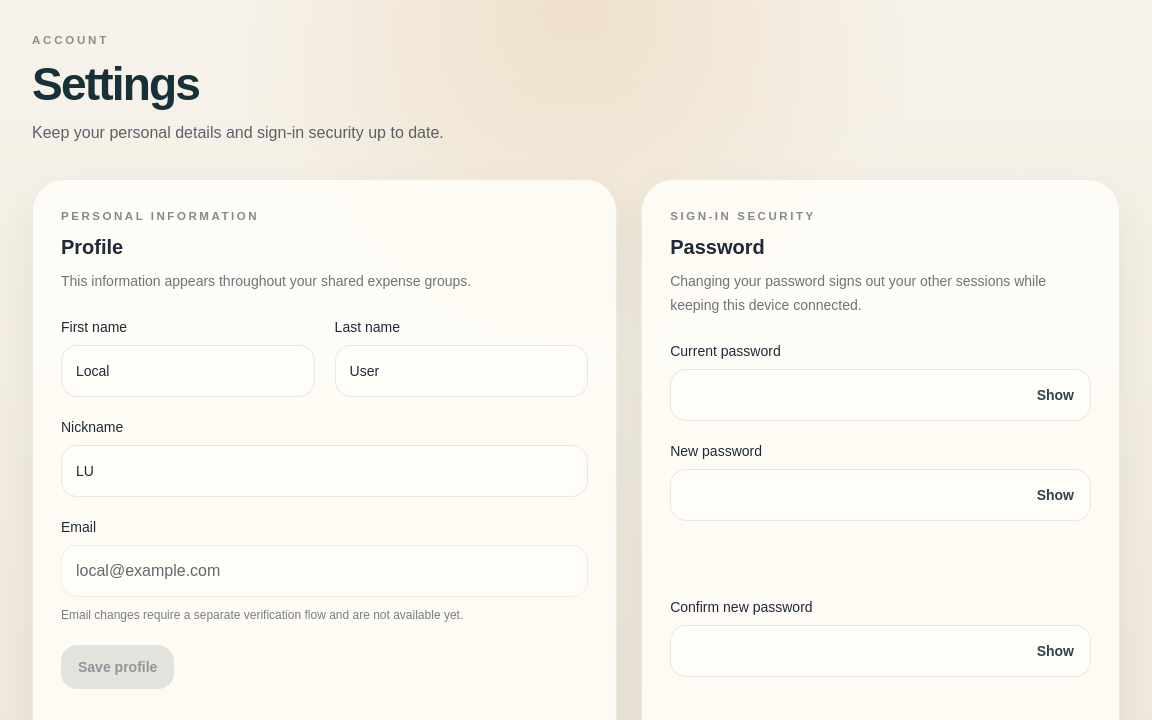
Test: AccountSettings › disables profile saving again when changes are reverted
Replace the text in the field labelled "First name" with "Changed" at (188, 371), box x1=61 y1=345 x2=315 y2=397
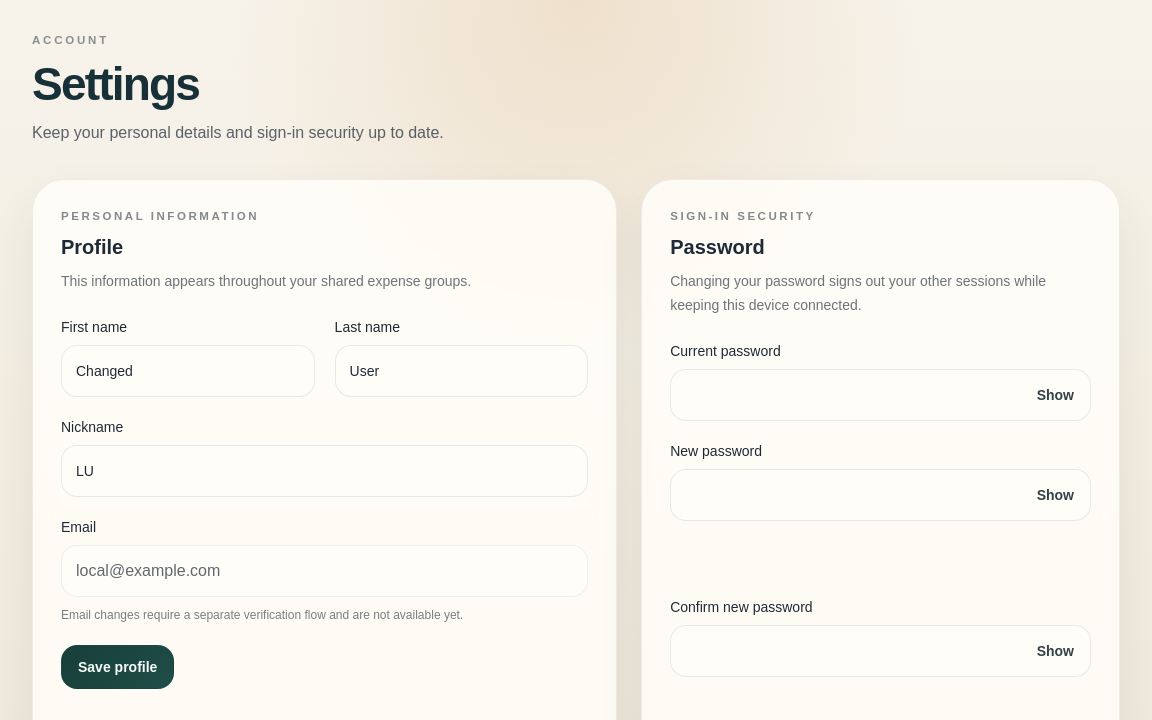
Now the button "Save profile" is enabled, box x1=61 y1=645 x2=174 y2=689
Replace the text in the field labelled "First name" with "Local" at (188, 371), box x1=61 y1=345 x2=315 y2=397
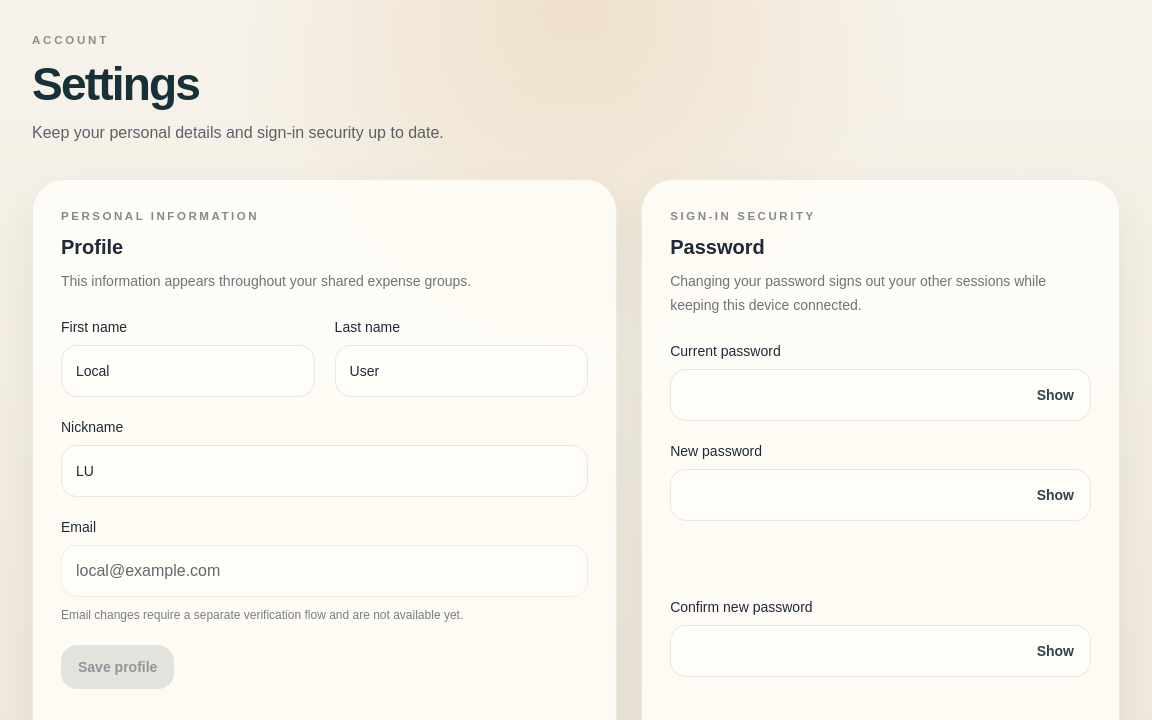
Now the button "Save profile" is disabled, box x1=61 y1=645 x2=174 y2=689
